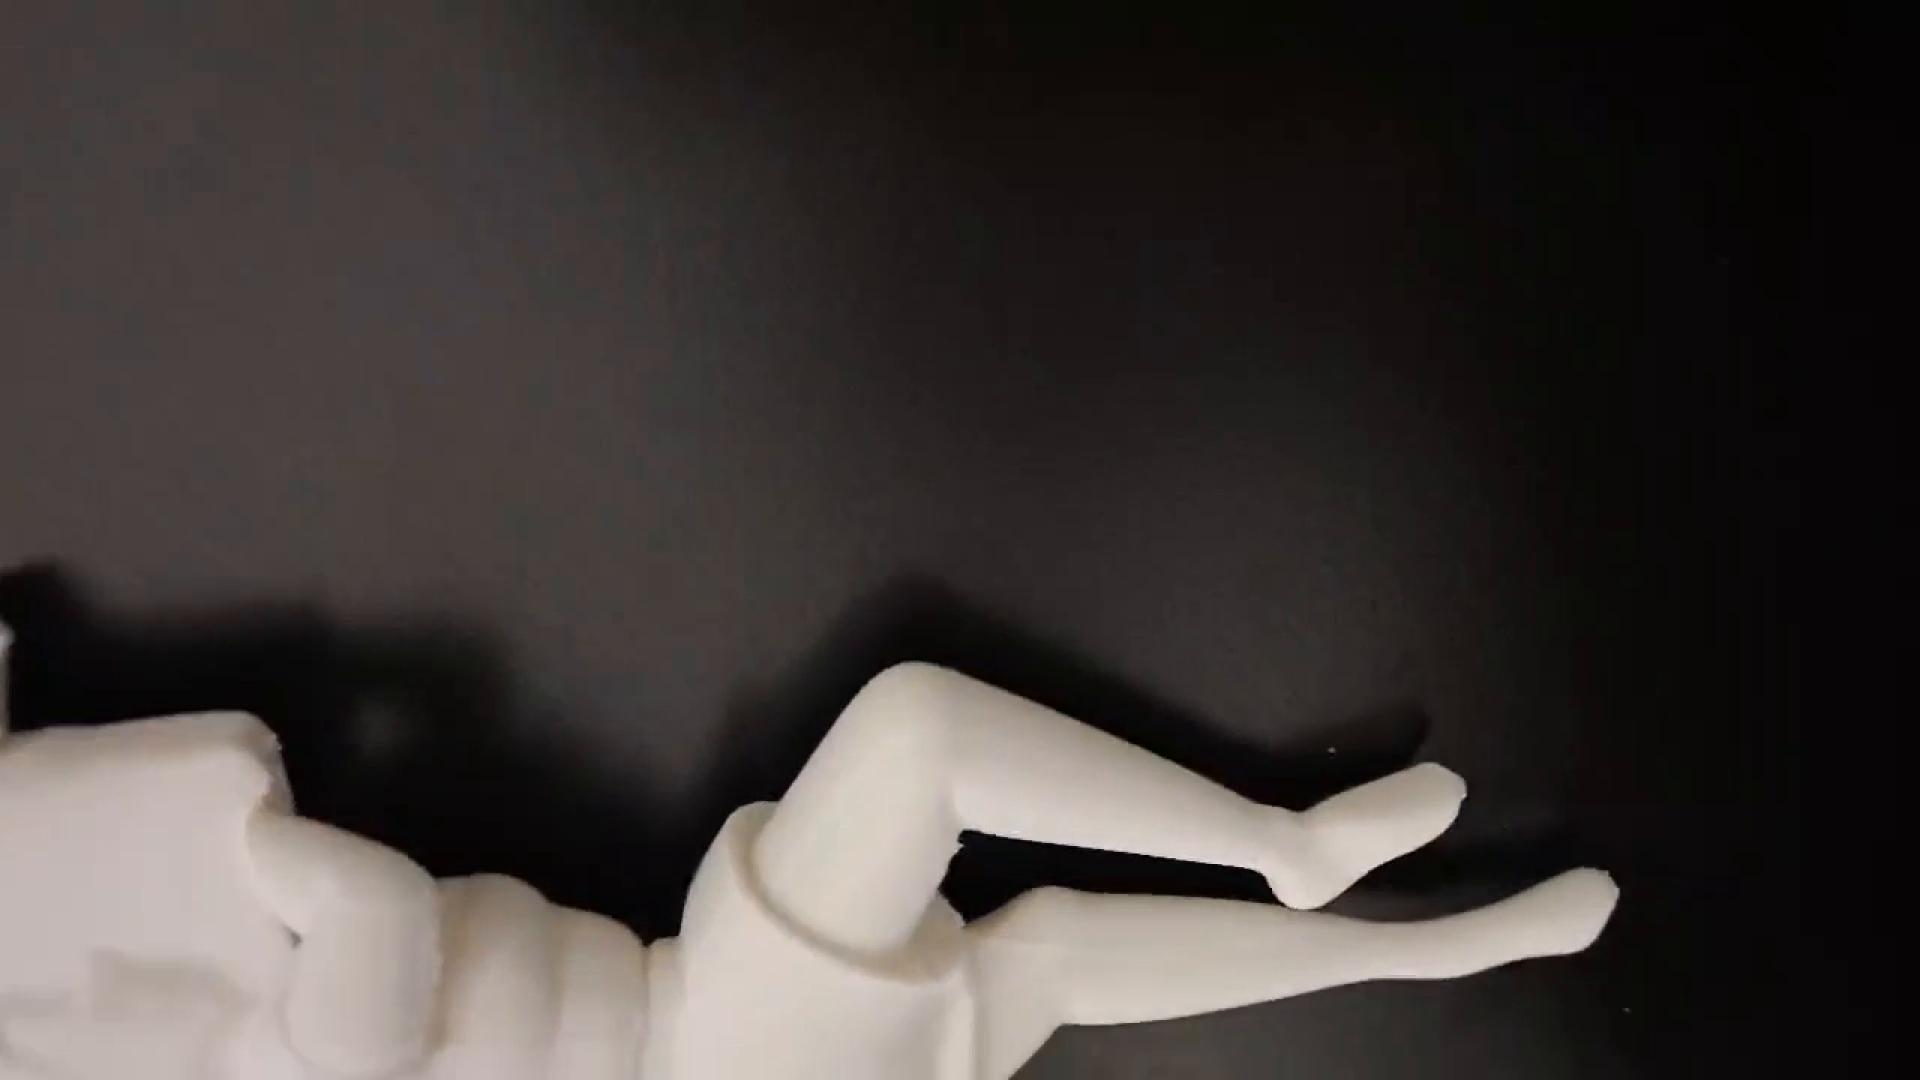Good-style: (1, 535, 1687, 1080)
